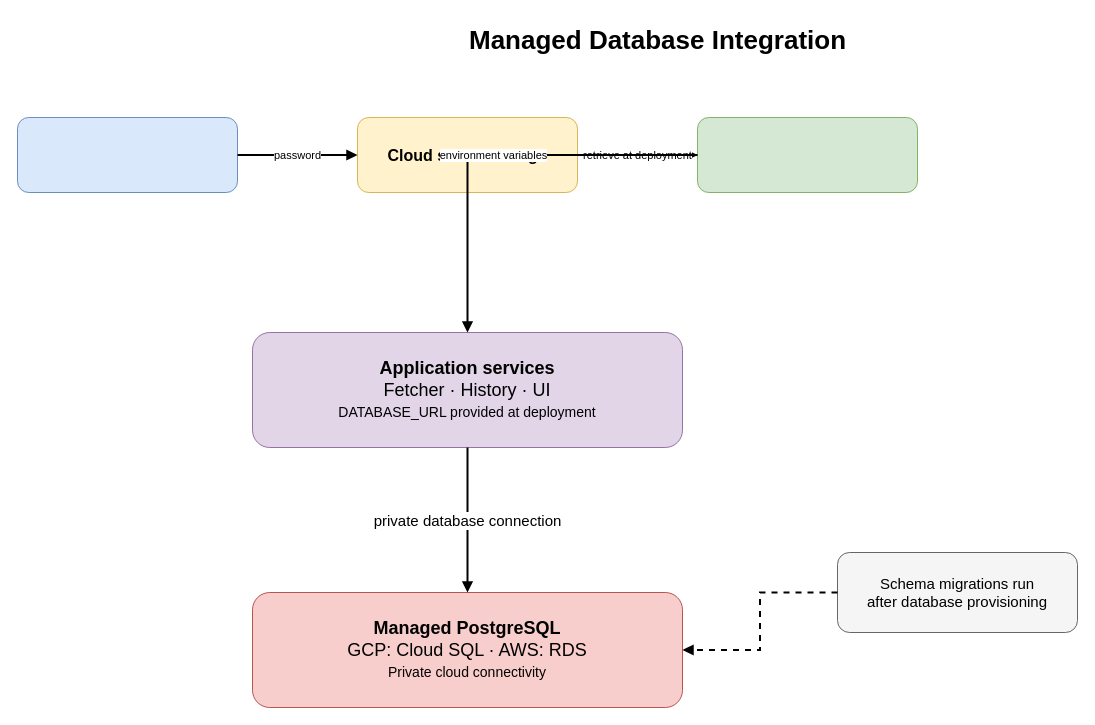
This 1095x725 diagram has some shape labels left out. The centre of each missing label's shape, as x and y in pixels:
"Ansible deployment resolves secret" belongs at pixel 807 154.
"Terraform generates database password" belongs at pixel 127 154.
